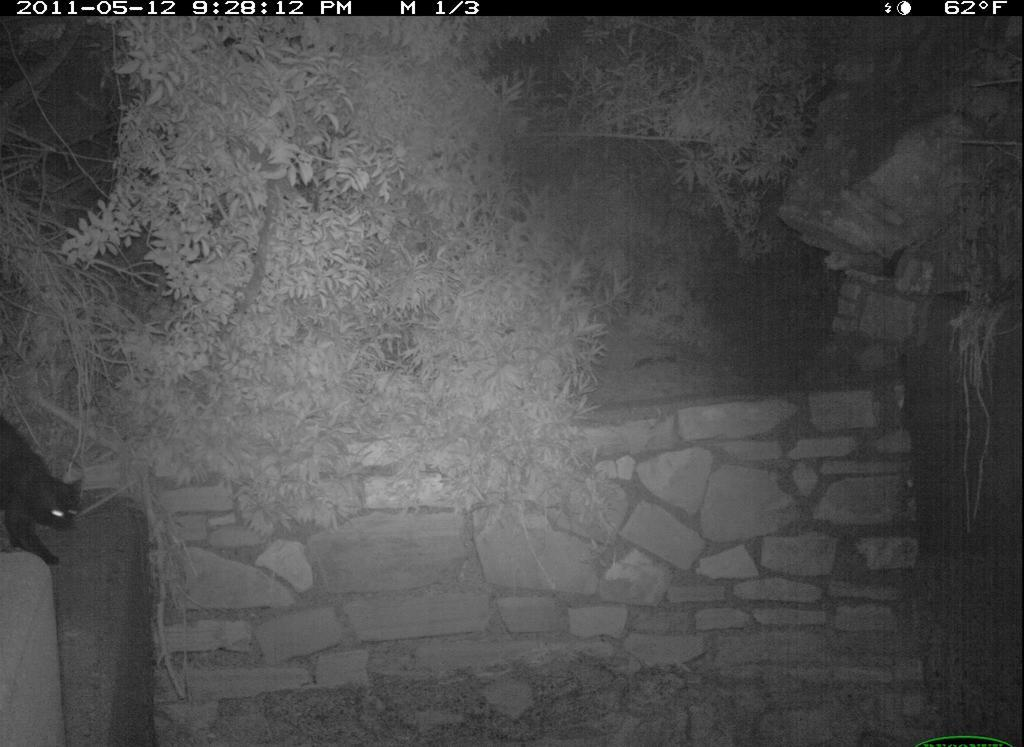cat: (1, 411, 89, 574)
